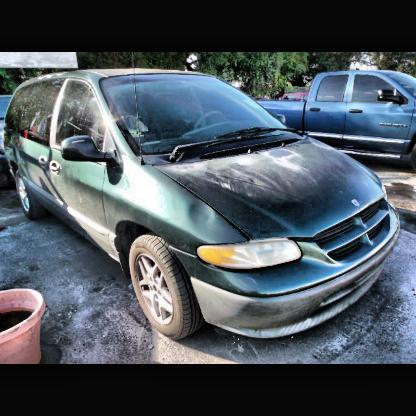Dodge Caravan Minivan 1997: (7, 70, 402, 342)
